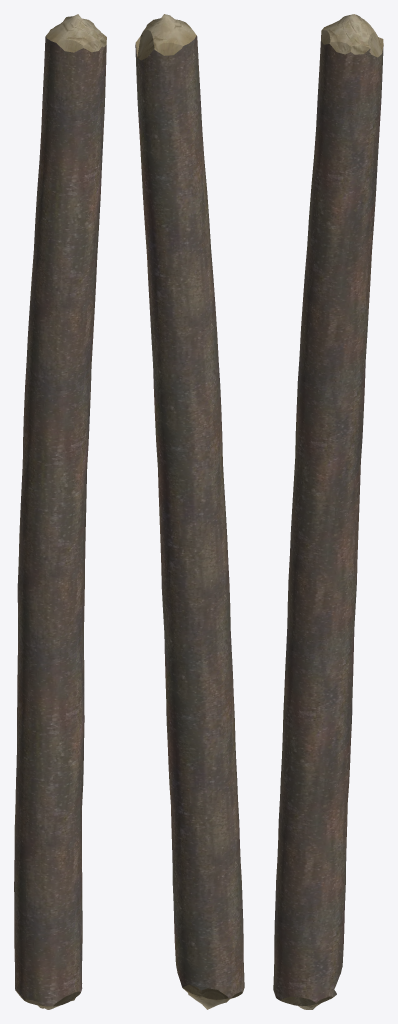
The picture shows the model from 3 angles, left to right: view 1: azimuth 30°, elevation 25°; view 2: azimuth 150°, elevation 25°; view 3: azimuth 330°, elevation 25°; orthographic projection.
Parts seen in each view (by area): view 1: SM_BM_Ash_Tree_02_tree_quarters_top_LOD0; view 2: SM_BM_Ash_Tree_02_tree_quarters_top_LOD0; view 3: SM_BM_Ash_Tree_02_tree_quarters_top_LOD0.
Part boxes in pixels (x1,y1,x2,y2): SM_BM_Ash_Tree_02_tree_quarters_top_LOD0: [14, 14, 106, 1009]; SM_BM_Ash_Tree_02_tree_quarters_top_LOD0: [135, 14, 244, 1009]; SM_BM_Ash_Tree_02_tree_quarters_top_LOD0: [273, 14, 383, 1009].
Bounding box in the file's own units: 0.6072 × 6.24 × 0.464.
1 material, 1 textured.
